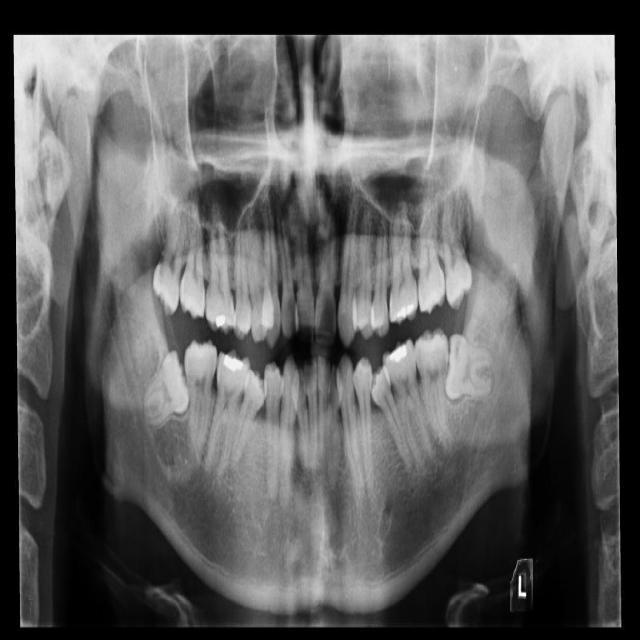3M ESPE Implant: (150, 198, 190, 315)
52: (375, 339, 427, 389), (201, 279, 238, 334), (214, 349, 252, 402), (389, 273, 419, 322)
73: (586, 582, 603, 582)
BioHorizons Implant: (410, 198, 448, 316)
BioLife Implant: (439, 187, 474, 311)
Biomet 3i Implant: (443, 331, 498, 404)
Blue Sky Bio Implant: (413, 327, 455, 455)
Caries: (180, 203, 205, 319)
Implant: (173, 337, 220, 459)
Keystone Dental Implant: (139, 349, 192, 427)
